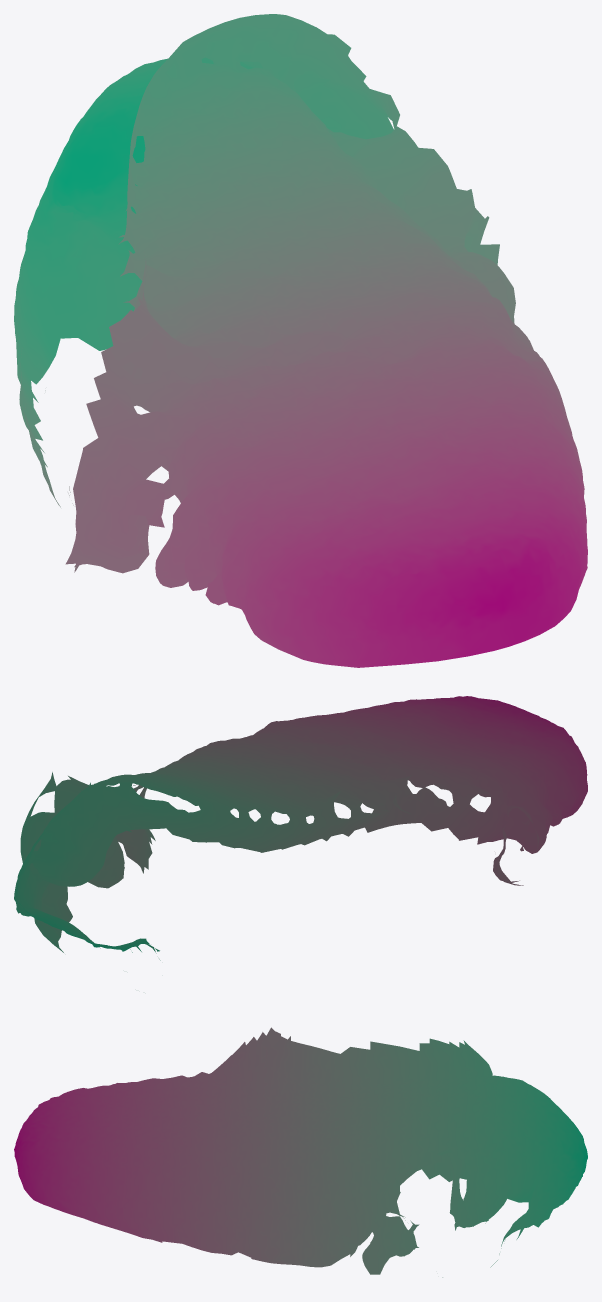
Rendered from seat_only.glb.
3 views of the same model, one above another, from view 1: azimuth 30°, elevation 25°; view 2: azimuth 150°, elevation 25°; view 3: azimuth 270°, elevation 25° (orthographic). The views are drawn at different scales.
Bounding box in the file's own units: 0.9453 × 0.5323 × 1.44.
